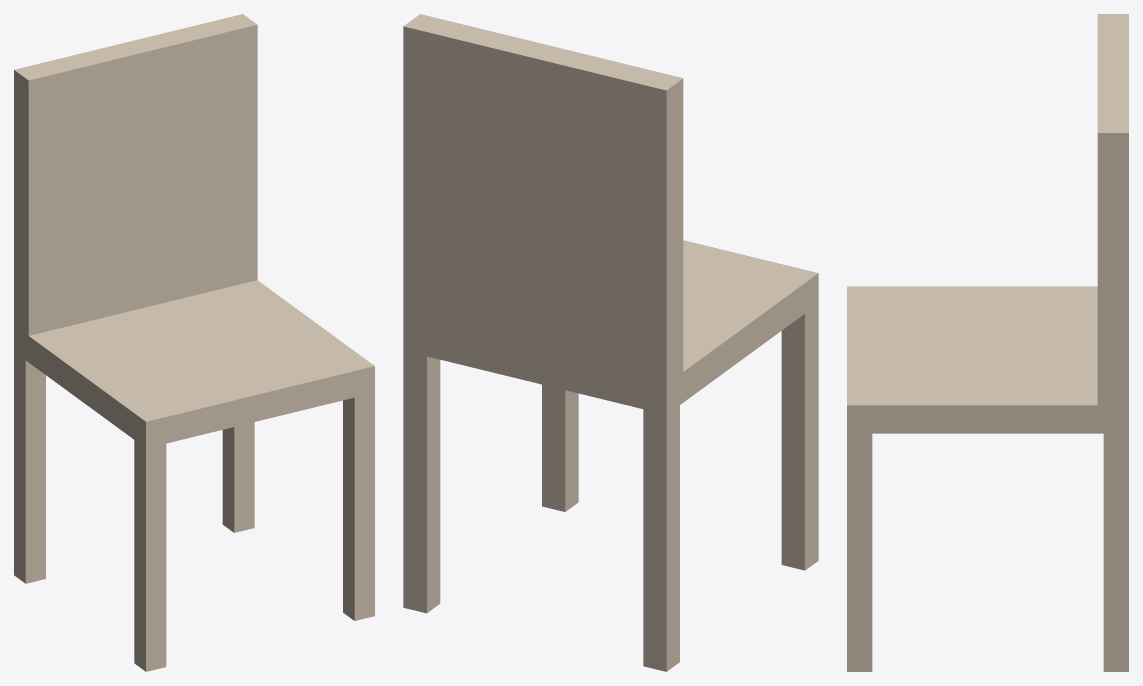
The model's file is chair.glb.
3 renders of one model, left to right at view 1: azimuth 30°, elevation 25°; view 2: azimuth 150°, elevation 25°; view 3: azimuth 270°, elevation 25°, orthographic. The views are drawn at different scales.
Size of the model in its own units: 0.45 by 0.95 by 0.45.
